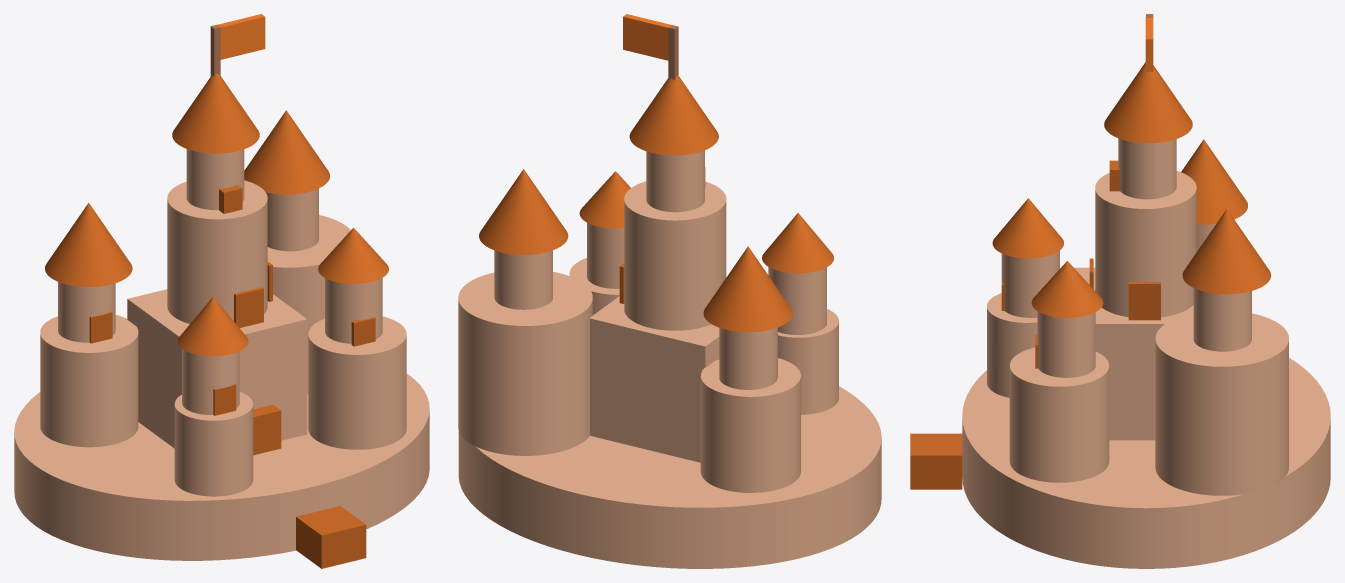
File: Beach_Sand_Castle.glb
The picture shows the model from 3 angles, left to right: view 1: azimuth 30°, elevation 25°; view 2: azimuth 150°, elevation 25°; view 3: azimuth 270°, elevation 25°; orthographic projection.
Parts seen in each view (by area): view 1: mesh_id30.002, mesh_id77, mesh_id32.001, mesh_id74, mesh_id107, mesh_id75, mesh_id183, mesh_id140.001, mesh_id58.001, mesh_id166, mesh_id330, mesh_id101 (+14 smaller); view 2: mesh_id30.002, mesh_id58.001, mesh_id77, mesh_id107, mesh_id74, mesh_id183, mesh_id166, mesh_id140.001, mesh_id75, mesh_id95, mesh_id138, mesh_id101 (+7 smaller); view 3: mesh_id30.002, mesh_id58.001, mesh_id32.001, mesh_id107, mesh_id77, mesh_id166, mesh_id140.001, mesh_id89, mesh_id101, mesh_id138, mesh_id75, mesh_id330 (+5 smaller).
Boxes of the visible parts, <box> form: mesh_id30.002: <box>14,373,429,560</box>; mesh_id77: <box>127,289,307,448</box>; mesh_id32.001: <box>308,316,406,449</box>; mesh_id74: <box>40,315,138,447</box>; mesh_id107: <box>167,180,267,323</box>; mesh_id75: <box>174,392,253,496</box>; mesh_id183: <box>45,203,132,286</box>; mesh_id140.001: <box>172,73,259,153</box>; mesh_id58.001: <box>267,215,350,393</box>; mesh_id166: <box>244,110,329,194</box>; mesh_id330: <box>296,506,366,568</box>; mesh_id101: <box>266,188,318,251</box>; mesh_id30.002: <box>458,386,881,568</box>; mesh_id58.001: <box>458,271,592,455</box>; mesh_id77: <box>590,296,719,462</box>; mesh_id107: <box>624,181,726,330</box>; mesh_id74: <box>700,358,800,492</box>; mesh_id183: <box>703,246,792,332</box>; mesh_id166: <box>479,169,568,254</box>; mesh_id140.001: <box>629,75,718,155</box>; mesh_id75: <box>778,309,838,414</box>; mesh_id95: <box>719,327,777,389</box>; mesh_id138: <box>646,150,704,212</box>; mesh_id101: <box>494,250,552,309</box>; mesh_id30.002: <box>962,358,1330,568</box>; mesh_id58.001: <box>1155,313,1288,495</box>; mesh_id32.001: <box>1009,347,1109,482</box>; mesh_id107: <box>1095,171,1196,317</box>; mesh_id77: <box>1074,267,1193,440</box>; mesh_id166: <box>1182,209,1271,294</box>; mesh_id140.001: <box>1104,62,1192,143</box>; mesh_id89: <box>1037,311,1095,377</box>; mesh_id101: <box>1193,288,1251,351</box>; mesh_id138: <box>1118,138,1176,199</box>; mesh_id75: <box>987,293,1037,397</box>; mesh_id330: <box>910,433,962,489</box>.
Size of the model in its own units: 0.6141 by 0.7128 by 0.5922.
Materials: 25 (25 with a texture image).
